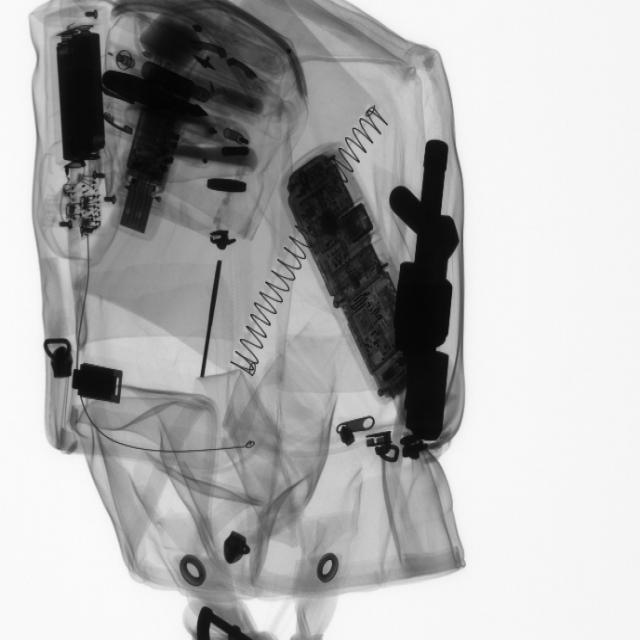GUN: (386, 132, 468, 448)
